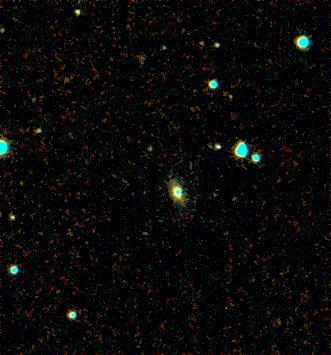star: (215, 79, 245, 109)
